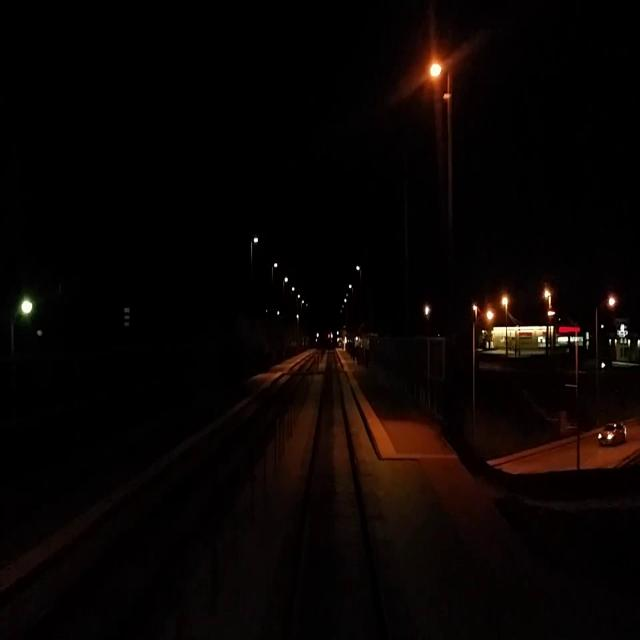rail-track: (45, 365, 309, 639), (289, 347, 382, 639)
